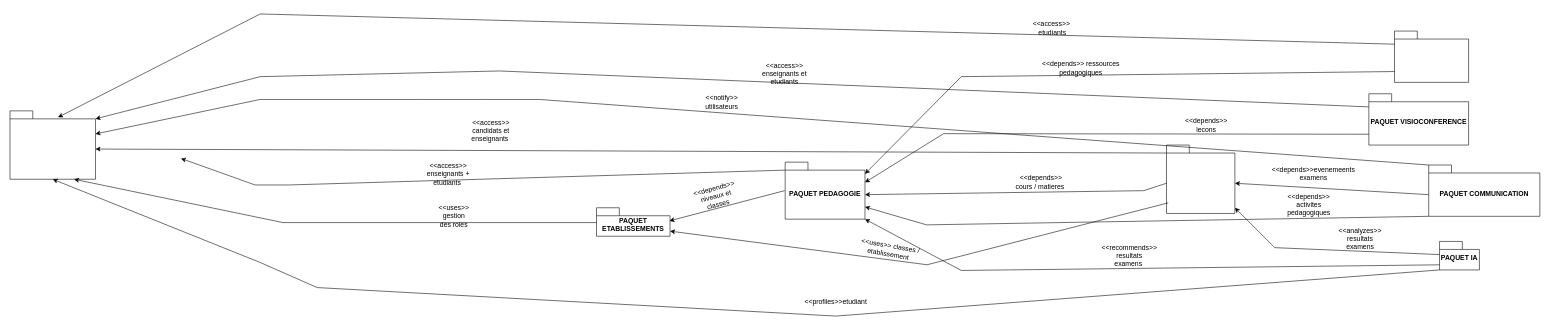
Some shapes in this 1550 by 331 pixel diagram are drawn without their labels. Each missing label, with the centre of its shape:
PAQUET BOUTIQUE: (1431,56)
PAQUET EXAMENS: (1200,178)
PAQUET UTILISATEUR: (52,144)
